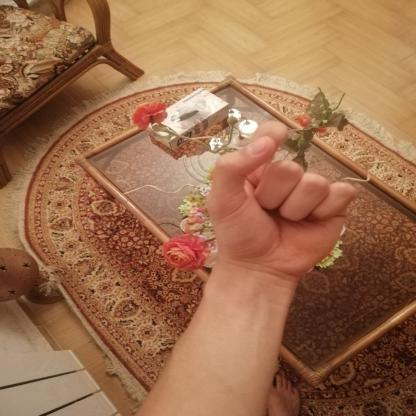FAA: (193, 109, 369, 290)
